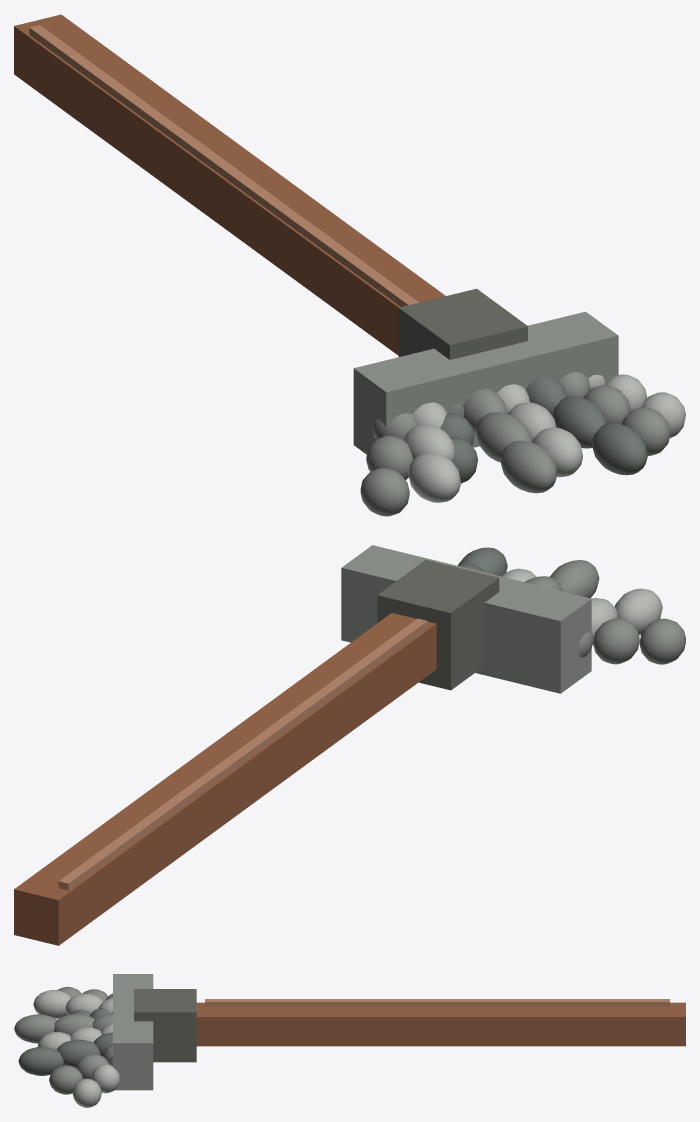
File: CMU3DJanitorialMop.glb
3 views of the same model, one above another, from view 1: azimuth 30°, elevation 25°; view 2: azimuth 150°, elevation 25°; view 3: azimuth 270°, elevation 25° (orthographic). The views are drawn at different scales.
Visible parts, largest first — view 1: mop wooden shaft, separate mop strand (×18), strand clamp, shaft highlight, metal ferrule; view 2: mop wooden shaft, strand clamp, metal ferrule, separate mop strand (×6), shaft highlight; view 3: mop wooden shaft, separate mop strand (×14), strand clamp, metal ferrule, shaft highlight.
Part boxes in pixels (x1,y1,x2,y2): mop wooden shaft: (14, 14, 445, 355); separate mop strand (×18): (360, 374, 685, 516); strand clamp: (353, 311, 618, 454); shaft highlight: (29, 25, 418, 306); metal ferrule: (398, 288, 527, 359); mop wooden shaft: (14, 613, 436, 945); strand clamp: (341, 545, 591, 693); metal ferrule: (377, 560, 499, 690); separate mop strand (×6): (458, 547, 685, 664); shaft highlight: (58, 618, 427, 890); mop wooden shaft: (196, 1002, 685, 1046); separate mop strand (×14): (14, 990, 120, 1107); strand clamp: (113, 974, 153, 1090); metal ferrule: (134, 989, 196, 1062); shaft highlight: (205, 999, 669, 1006).
Bounding box in the file's own units: 0.2825 × 0.0865 × 0.8034.
